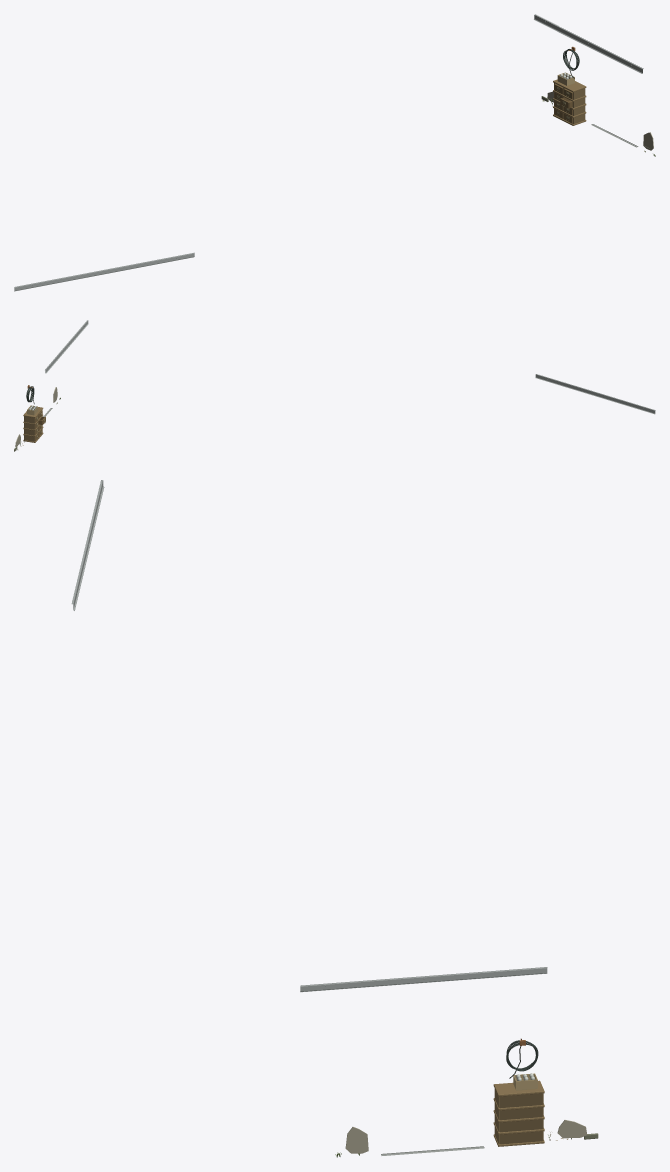
The model's file is electrical_shop.glb.
3 views of the same model, one above another, from view 1: azimuth 30°, elevation 25°; view 2: azimuth 150°, elevation 25°; view 3: azimuth 270°, elevation 25° (orthographic). The views are drawn at different scales.
Visible parts, largest first — view 1: galvanized, wood.001; view 2: galvanized, wood.001; view 3: wood.001, galvanized, concrete.001.
Boxes of the visible parts, x1=… form: galvanized: x1=14, y1=14, x2=643, y2=291; wood.001: x1=553, y1=79, x2=586, y2=125; galvanized: x1=43, y1=320, x2=655, y2=416; wood.001: x1=23, y1=407, x2=45, y2=442; wood.001: x1=493, y1=1080, x2=544, y2=1146; galvanized: x1=71, y1=480, x2=547, y2=1155; concrete.001: x1=345, y1=1120, x2=598, y2=1153.
Size of the model in its own units: 18.63 by 2.55 by 7.91.
